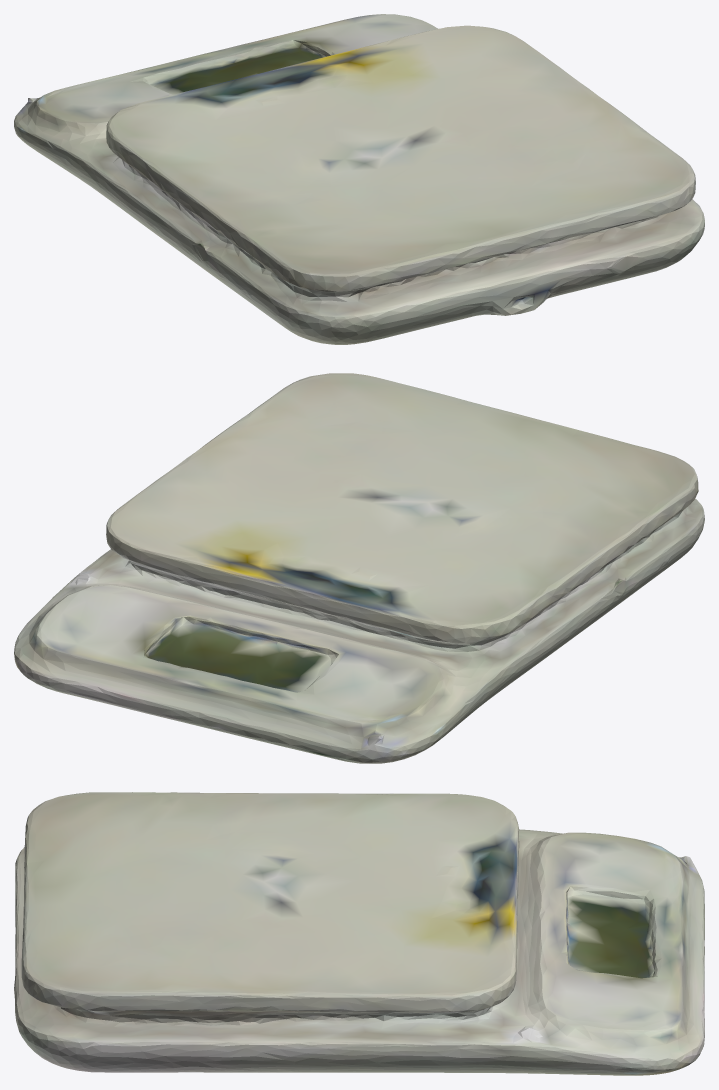
File: scan.obj
3 views of the same model, one above another, from view 1: azimuth 30°, elevation 25°; view 2: azimuth 150°, elevation 25°; view 3: azimuth 270°, elevation 25° (orthographic). The views are drawn at different scales.
Parts seen in each view (by area): view 1: scan.ply; view 2: scan.ply; view 3: scan.ply.
Part boxes in pixels (bbox=[...]): scan.ply: bbox=[14, 14, 704, 344]; scan.ply: bbox=[14, 373, 704, 763]; scan.ply: bbox=[14, 792, 704, 1075].
Size of the model in its own units: 0.1484 by 0.0314 by 0.2007.
